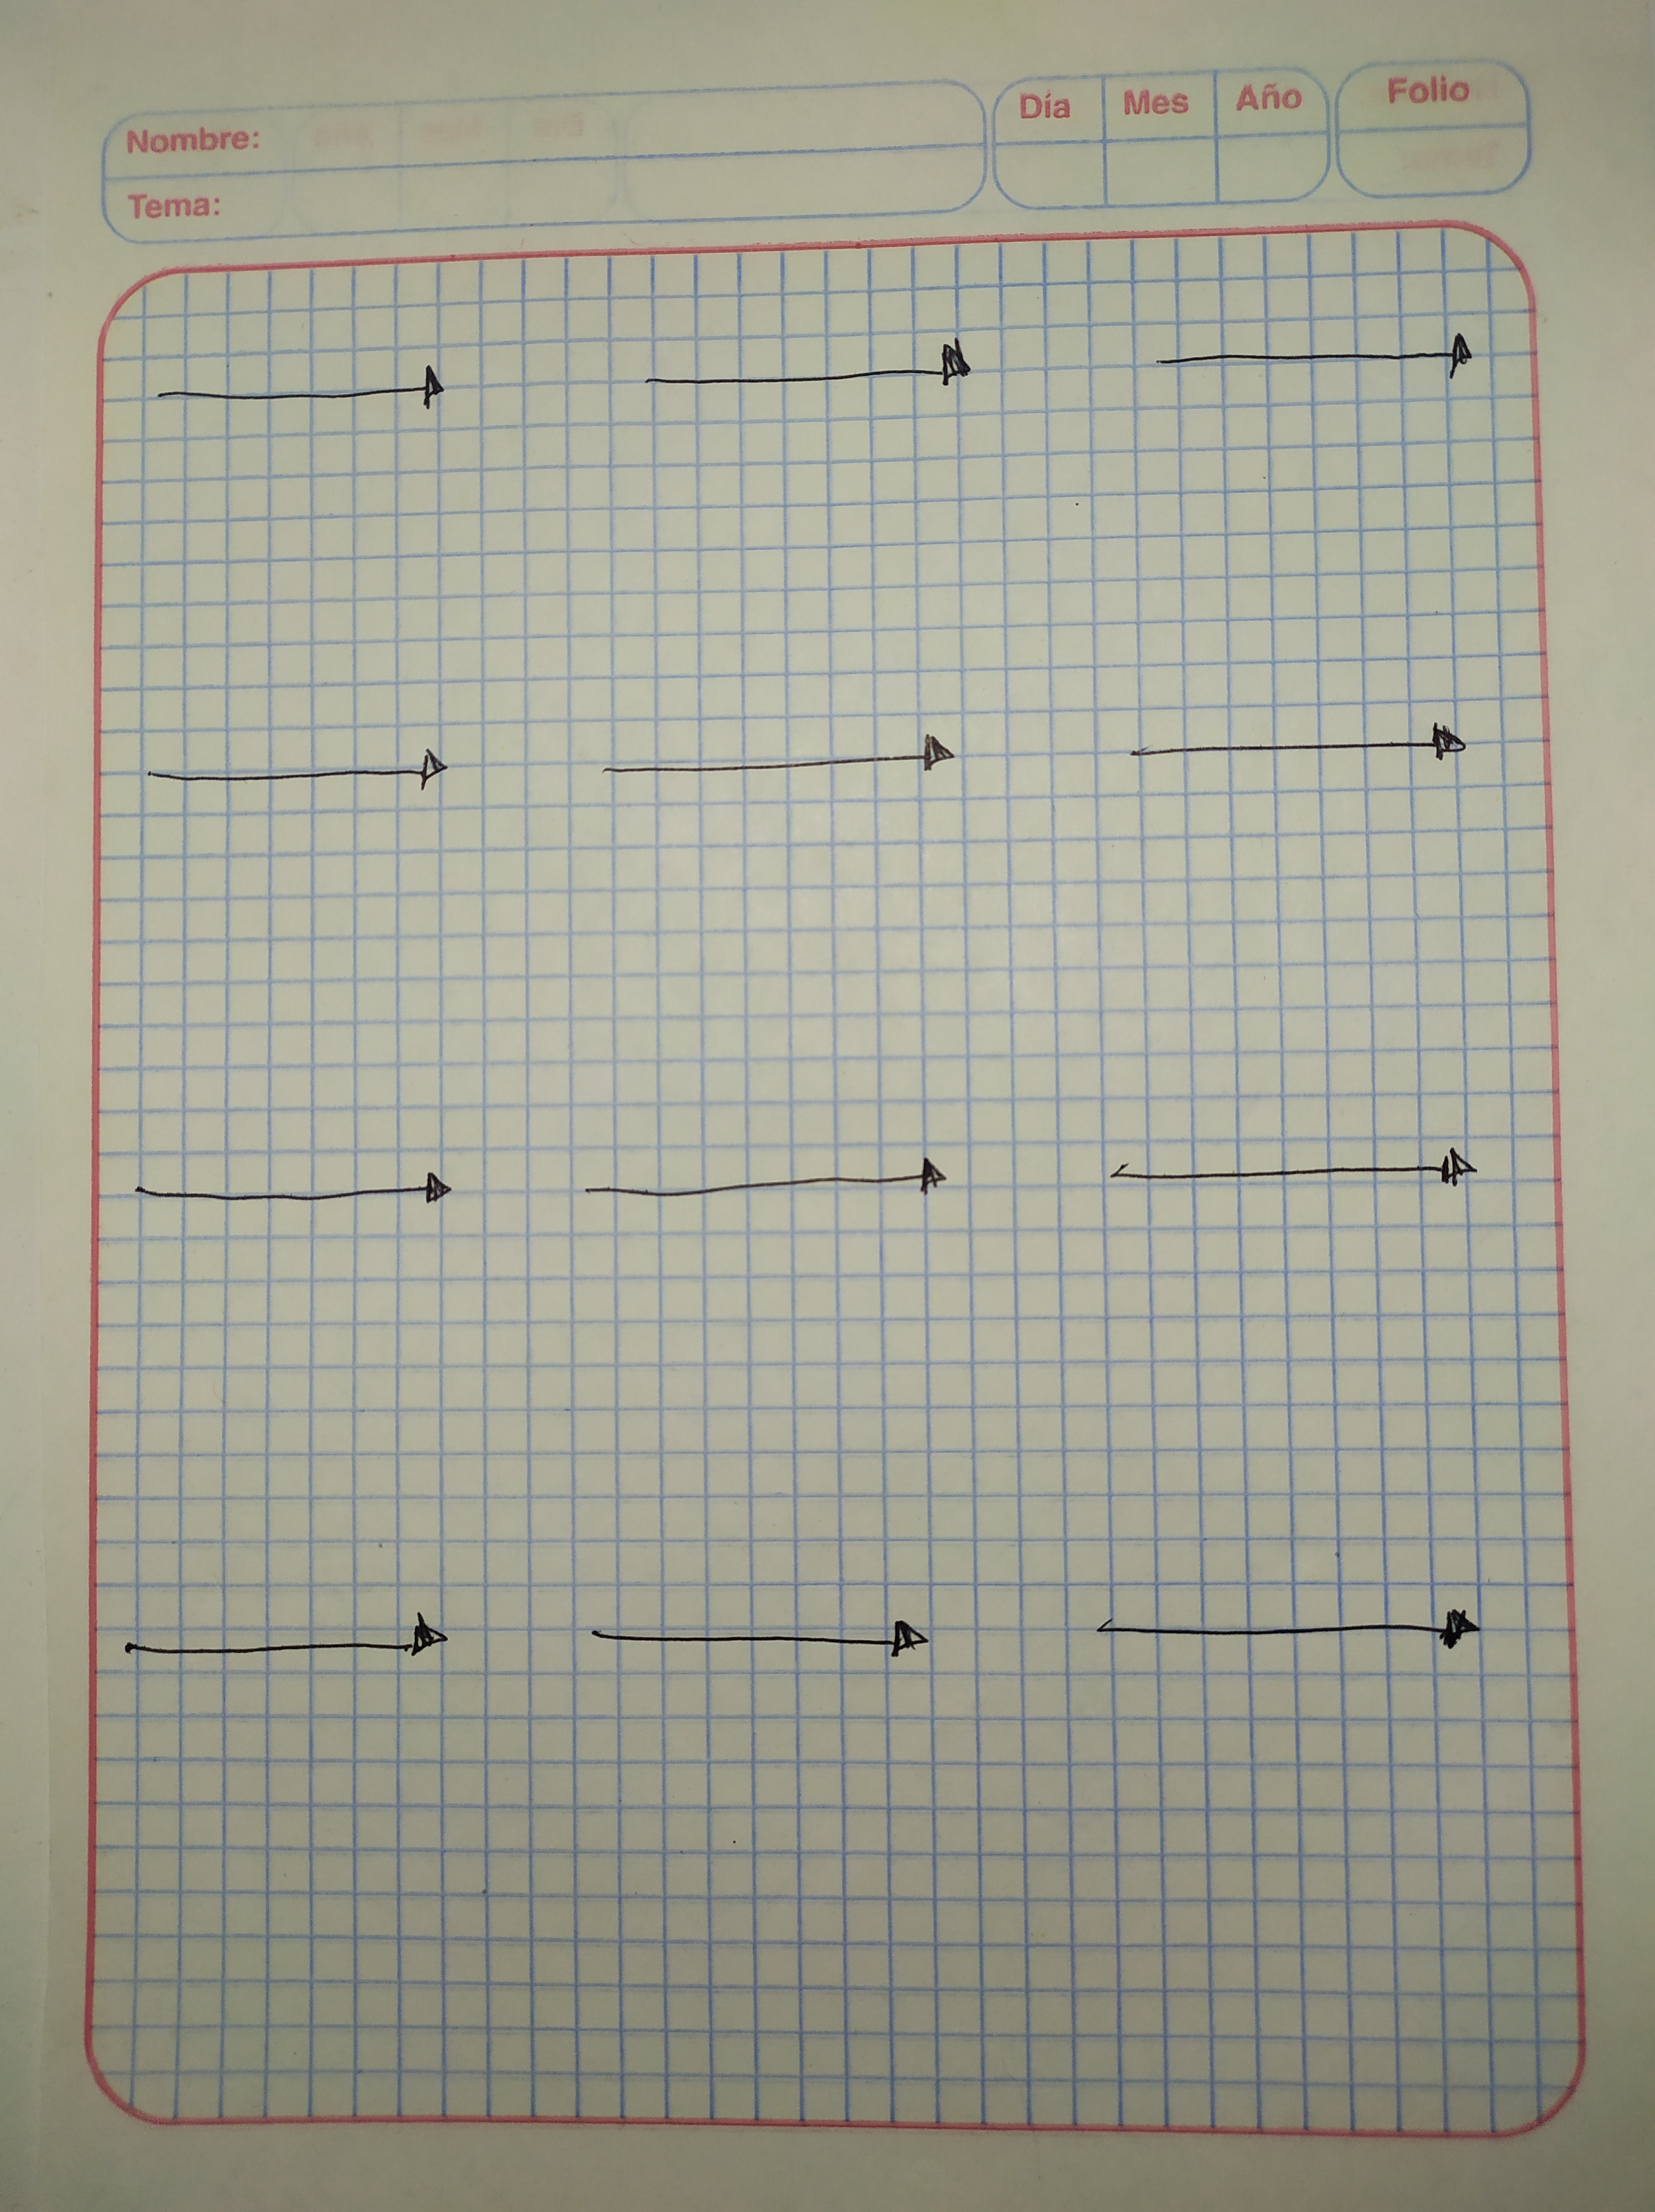arrow_line_right: (568, 721, 1038, 813), (1060, 1581, 1504, 1675), (570, 1590, 961, 1691), (600, 320, 1010, 415), (1066, 1131, 1519, 1216), (1085, 702, 1505, 785), (110, 1607, 497, 1696), (568, 1145, 994, 1225), (134, 339, 471, 434), (104, 1152, 469, 1239), (130, 719, 462, 811), (1137, 320, 1495, 398)
